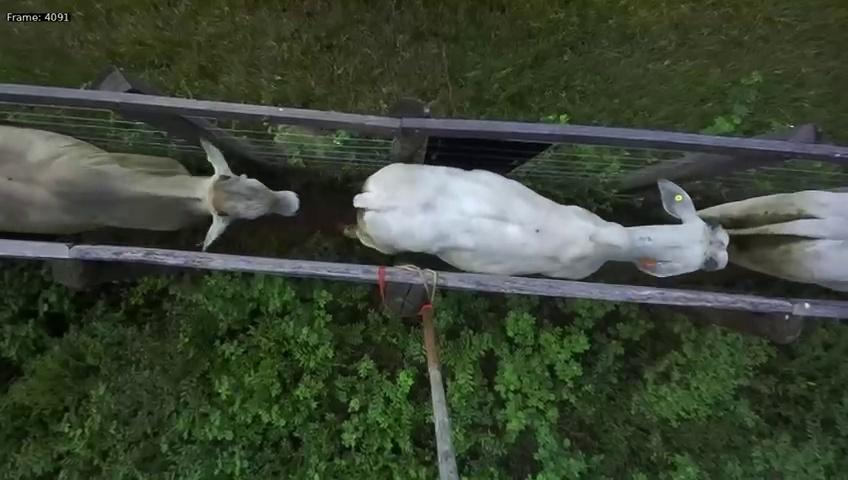cattle: (334, 149, 737, 284), (0, 115, 306, 256)
